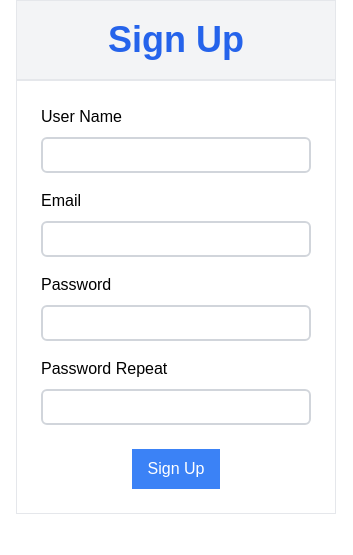
Test: Sign Up Page › Interaction › display username is not allowed to be empty for username
The width and height of the screenshot is (353, 555).
Type "T3rl4lu@123" into the password field labelled "Password" at (176, 323), box [41,305,311,341]
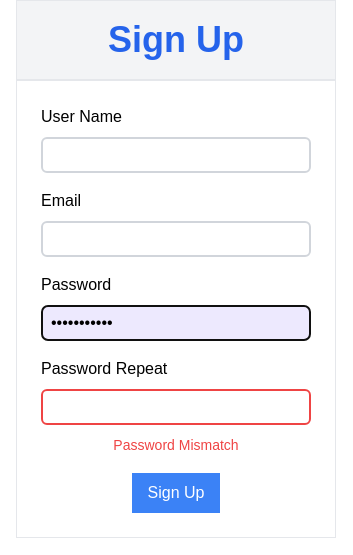
Type "T3rl4lu@123" into the password field labelled "Password Repeat" at (176, 407), box [41,389,311,425]
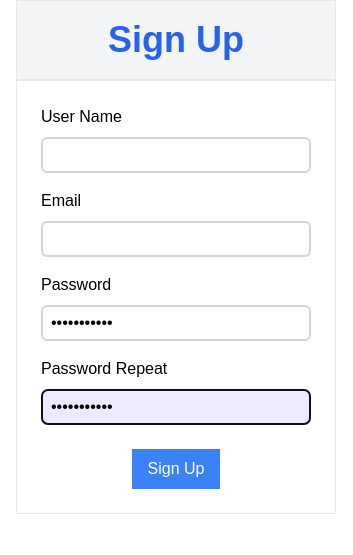
Click the button "Sign Up" at (176, 469), box [132,449,220,489]
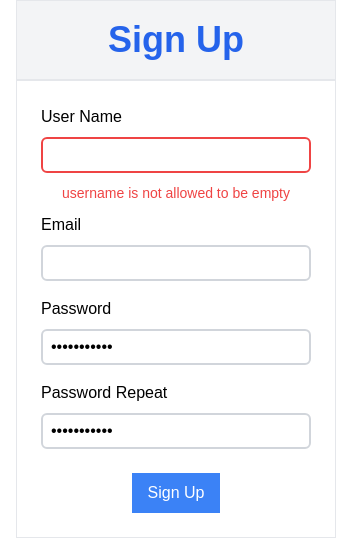
Expected: the text "username is not allowed to be empty" is shown, [62,185,290,201]
